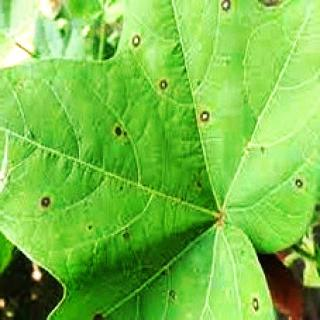leaf spot: (24, 0, 320, 320)
